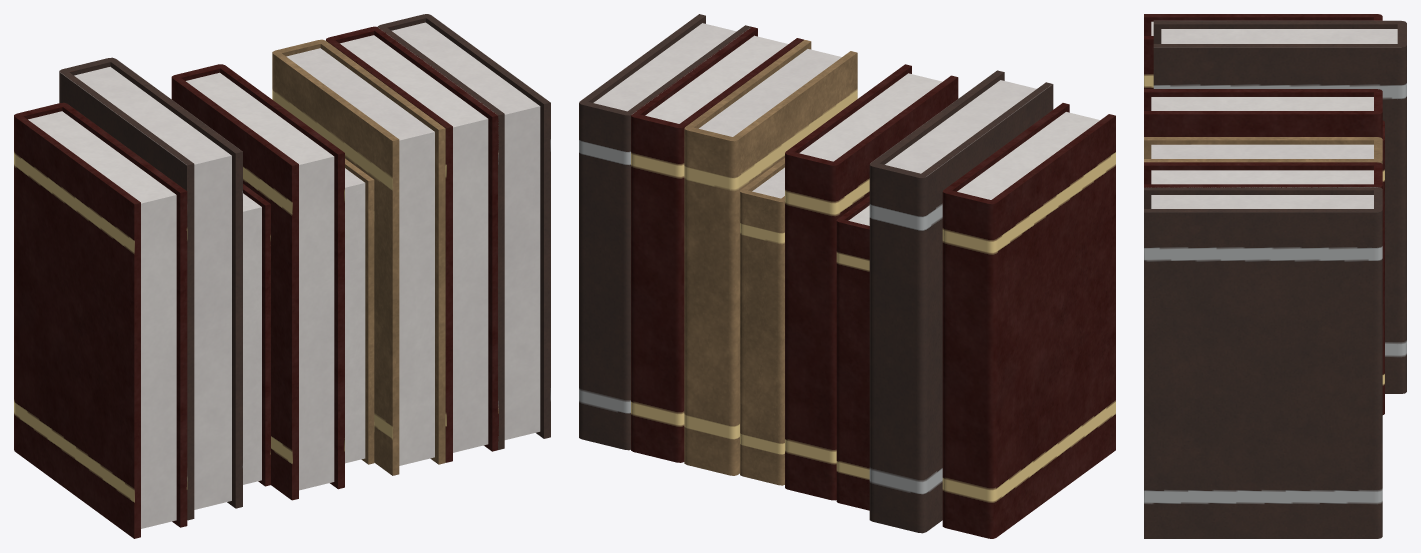
Rendered from shelf_props_books.fbx.
The picture shows the model from 3 angles, left to right: view 1: azimuth 30°, elevation 25°; view 2: azimuth 150°, elevation 25°; view 3: azimuth 270°, elevation 25°; orthographic projection. The views are drawn at different scales.
Visible parts, largest first — view 1: Cube.001; view 2: Cube.001; view 3: Cube.001.
Part boxes in pixels (left/top/right/bottom): Cube.001: left=14, top=14, right=550, bottom=538; Cube.001: left=579, top=14, right=1115, bottom=538; Cube.001: left=1144, top=14, right=1406, bottom=538.
Bounding box in the file's own units: 38.33 × 31.28 × 21.46.
